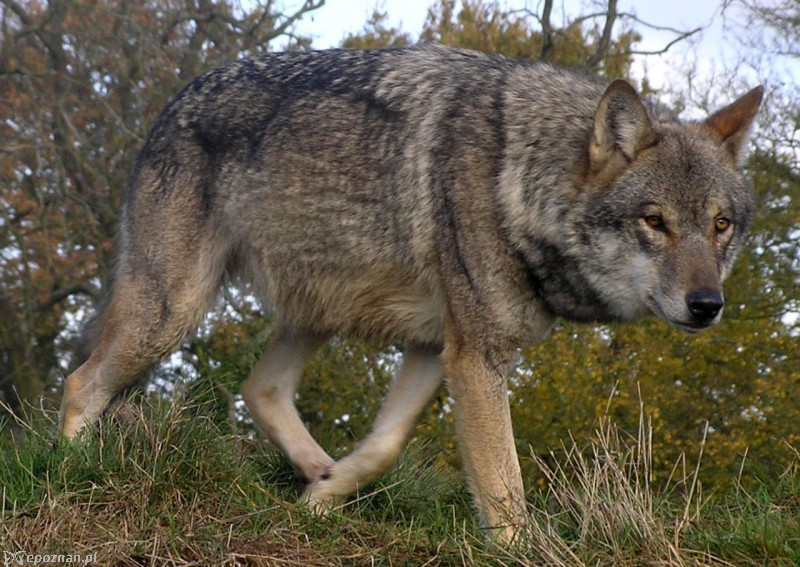wolf: (90, 50, 771, 504)
